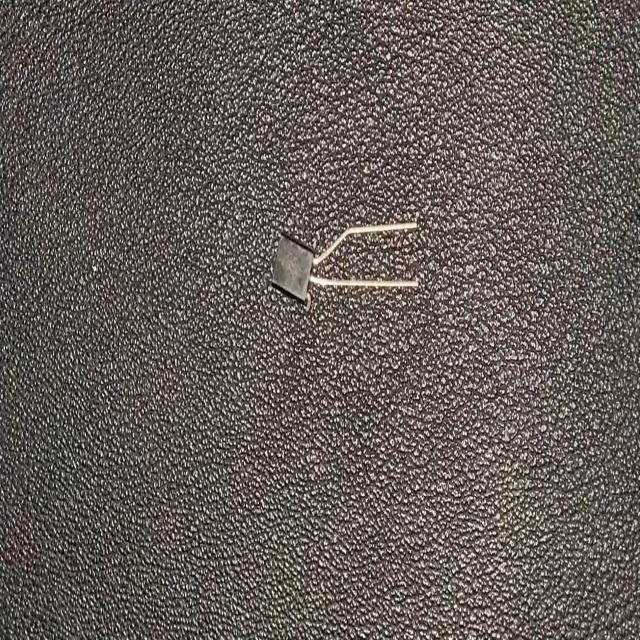missing-leg: (268, 221, 421, 319)
